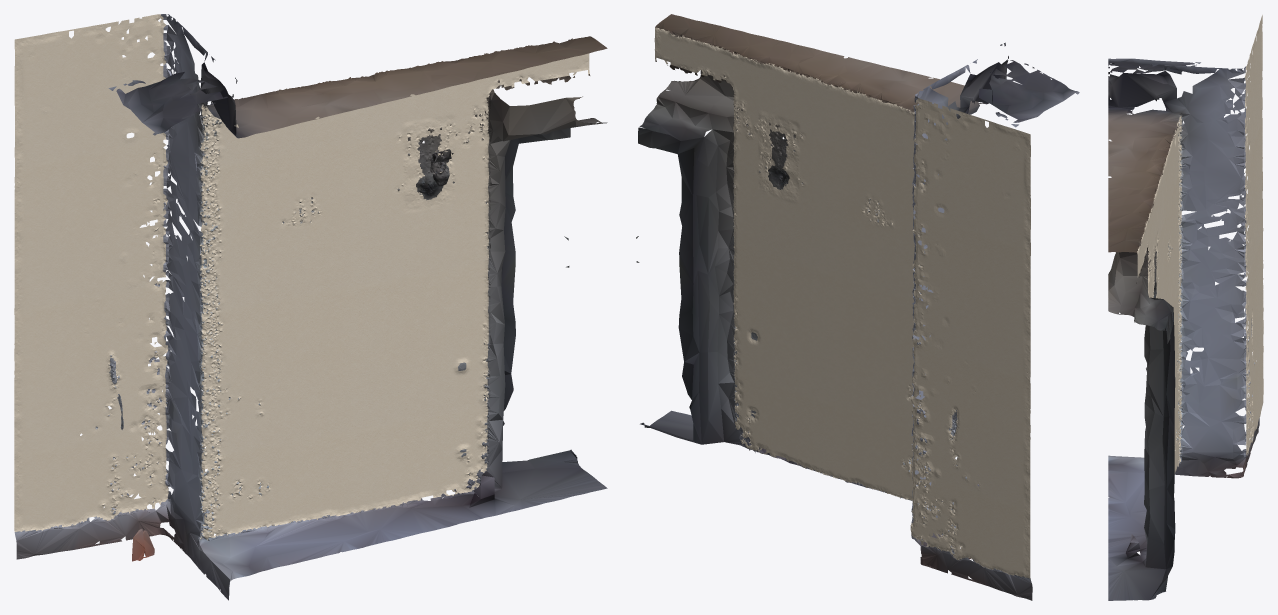
Rendered from coarse.glb.
3 views of the same model, side by side, from view 1: azimuth 30°, elevation 25°; view 2: azimuth 150°, elevation 25°; view 3: azimuth 270°, elevation 25° (orthographic). The views are drawn at different scales.
Size of the model in its own units: 3.6 by 3.6 by 1.23.
6 materials, 5 textured.
